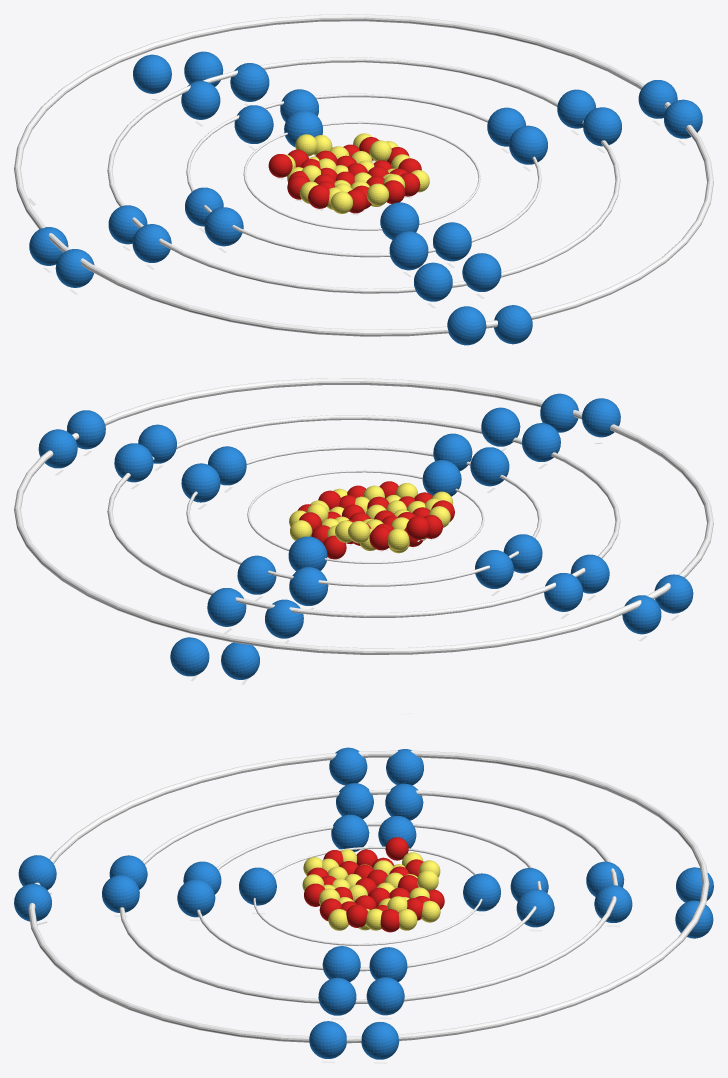
3 views of the same model, one above another, from view 1: azimuth 30°, elevation 25°; view 2: azimuth 150°, elevation 25°; view 3: azimuth 270°, elevation 25° (orthographic). The views are drawn at different scales.
Visible parts, largest first — view 1: Torus.004, Torus.003, Torus.002, Torus.001, g.006, g.022, g.007, g.021, g.014, g.015, g.008, g.005 (+18 smaller); view 2: Torus.004, Torus.003, Torus.002, Torus.001, g.024, g.015, g.006, g.014, g.009, g.004, g.012, g.008 (+18 smaller); view 3: Torus.004, Torus.003, Torus.002, Torus.001, g.012, g.013, g.023, g.025, g.001, g.007, g, g.015 (+18 smaller).
Part boxes in pixels (x1,y1,x2,y2): Torus.004: (14, 14, 713, 336); Torus.003: (107, 57, 620, 293); Torus.002: (186, 93, 541, 257); Torus.001: (243, 121, 480, 230); g.006: (389, 231, 428, 270); g.022: (447, 306, 486, 345); g.007: (433, 222, 471, 261); g.021: (133, 54, 171, 93); g.014: (414, 262, 452, 301); g.015: (462, 253, 501, 291); g.008: (234, 105, 273, 143); g.005: (509, 125, 547, 164); Torus.004: (14, 378, 713, 654); Torus.003: (107, 415, 620, 617); Torus.002: (186, 446, 541, 586); Torus.001: (247, 470, 484, 563); g.024: (170, 637, 209, 676); g.015: (481, 407, 520, 446); g.006: (470, 447, 509, 486); g.014: (522, 423, 560, 461); g.009: (237, 555, 276, 594); g.004: (181, 463, 220, 502); g.012: (114, 443, 153, 482); g.008: (289, 567, 328, 605); Torus.004: (28, 750, 709, 1043); Torus.003: (119, 789, 617, 1004); Torus.002: (197, 822, 541, 971); Torus.001: (253, 846, 482, 945); g.012: (366, 977, 404, 1015); g.013: (318, 977, 356, 1015); g.023: (309, 1021, 346, 1058); g.025: (361, 1022, 399, 1059); g.001: (239, 867, 276, 905); g.007: (177, 879, 215, 917); g: (463, 873, 500, 911); g.015: (102, 875, 139, 912).
Size of the model in its own units: 8.7 by 1.06 by 8.56.
